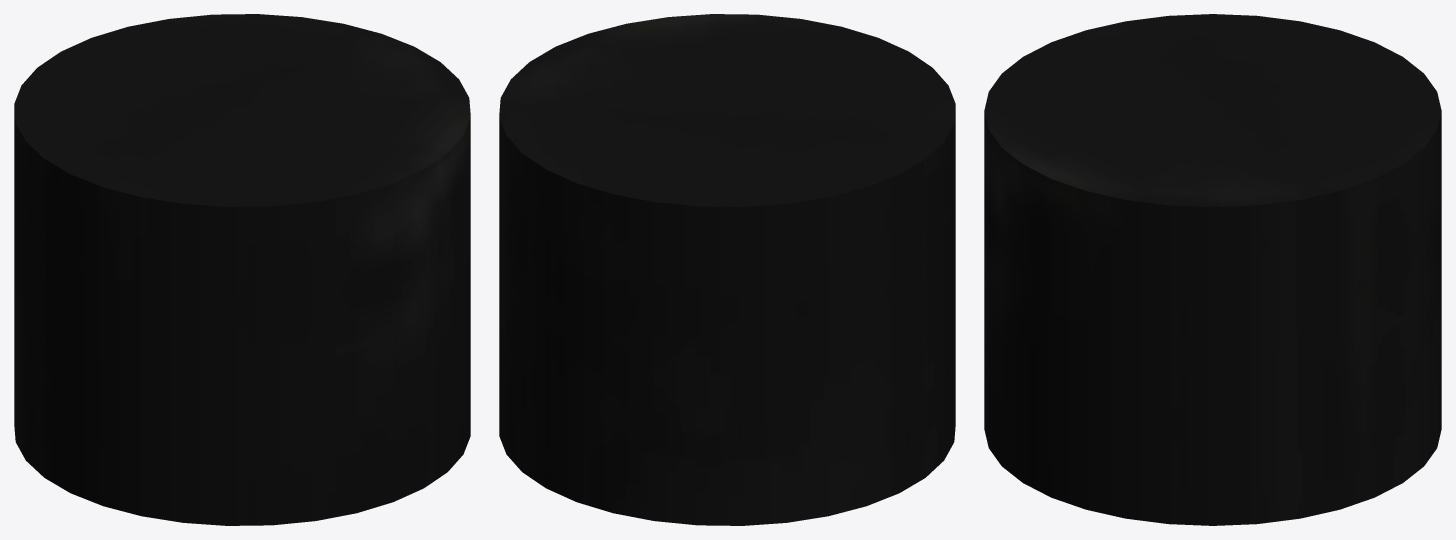
The model's file is backrest__selector_boss_0.glb.
3 views of the same model, side by side, from view 1: azimuth 30°, elevation 25°; view 2: azimuth 150°, elevation 25°; view 3: azimuth 270°, elevation 25° (orthographic).
Parts seen in each view (by area): view 1: world; view 2: world; view 3: world.
Part boxes in pixels (<box>): world: <box>14,14,470,525</box>; world: <box>499,14,955,525</box>; world: <box>984,14,1441,525</box>.
Size of the model in its own units: 0.026 by 0.02 by 0.026.
1 material, 1 textured.
